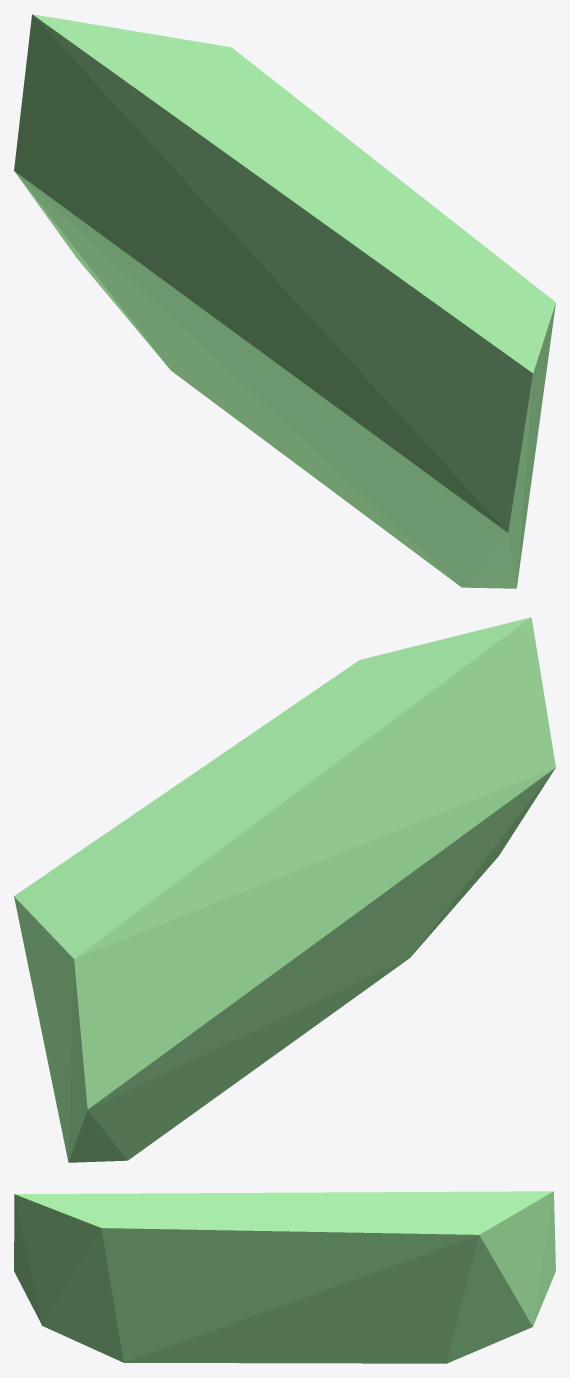
Rendered from UMIRobot_UMIRobot_link_2_convex_coll_40.dae.
3 views of the same model, one above another, from view 1: azimuth 30°, elevation 25°; view 2: azimuth 150°, elevation 25°; view 3: azimuth 270°, elevation 25° (orthographic). The views are drawn at different scales.
Visible parts, largest first — view 1: node; view 2: node; view 3: node.
Part boxes in pixels (x1,y1,x2,y2): node: (14,14,555,588); node: (14,617,555,1162); node: (14,1191,555,1363).
Size of the model in its own units: 0.00342 by 0.00651 by 0.0198.
